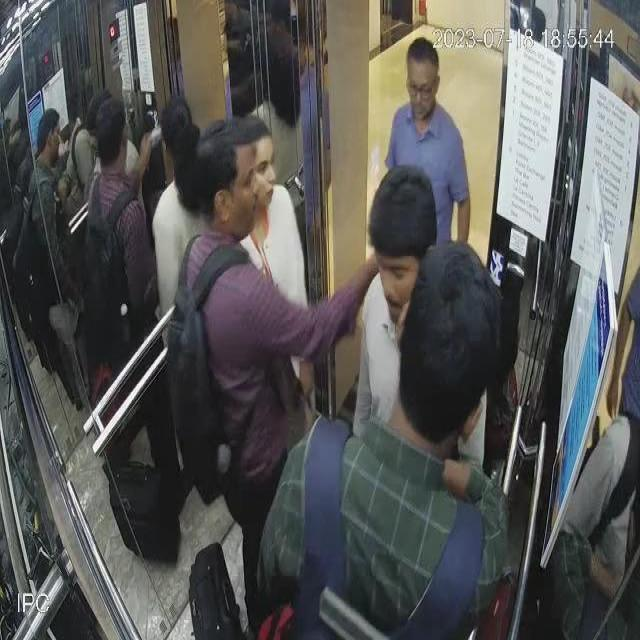person: (255, 241, 507, 640), (171, 124, 280, 484), (354, 170, 492, 438), (83, 98, 167, 486), (379, 46, 474, 250), (14, 100, 71, 388), (232, 111, 304, 300)
